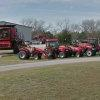Tractor: (11, 27, 91, 70)
